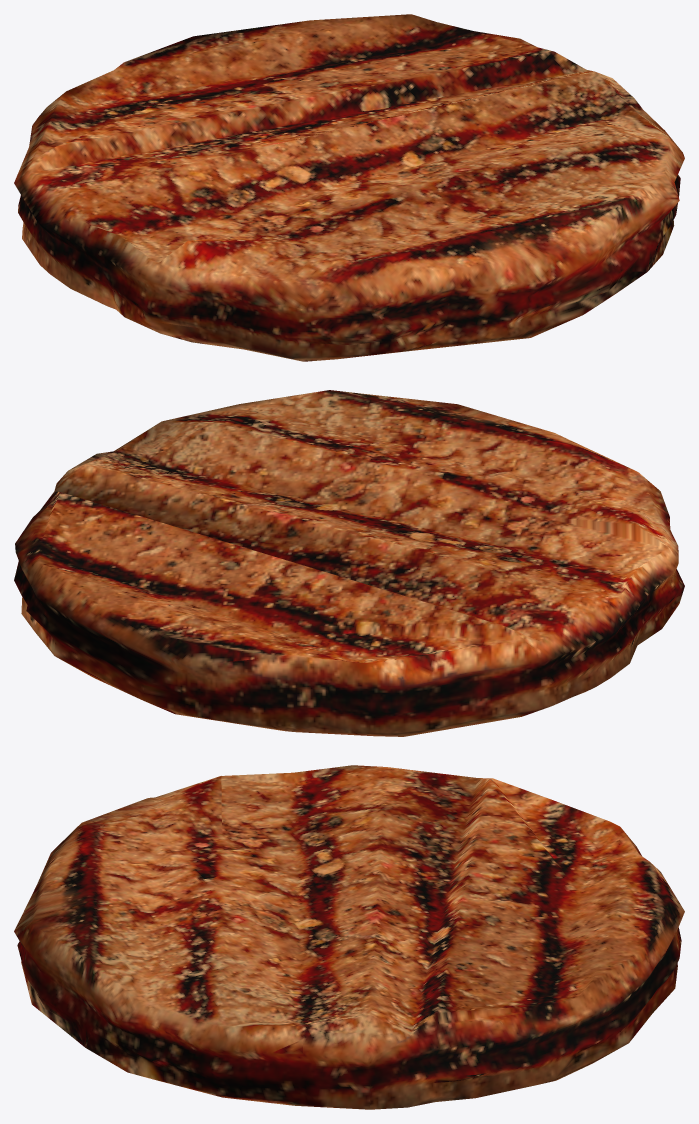
Rendered from Burger.fbx.
The picture shows the model from 3 angles, top to bottom: view 1: azimuth 30°, elevation 25°; view 2: azimuth 150°, elevation 25°; view 3: azimuth 270°, elevation 25°; orthographic projection.
Visible parts, largest first — view 1: burger; view 2: burger; view 3: burger.
Boxes of the visible parts, box(x1,y1,x2,y2) form: burger: box(14, 14, 684, 361); burger: box(14, 390, 684, 736); burger: box(14, 765, 684, 1109).
Size of the model in its own units: 195 by 33.7 by 195.
